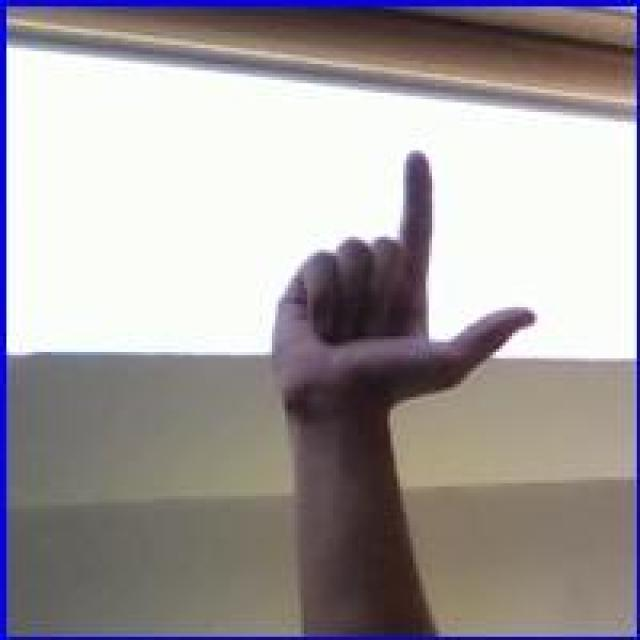L: (266, 142, 540, 428)
